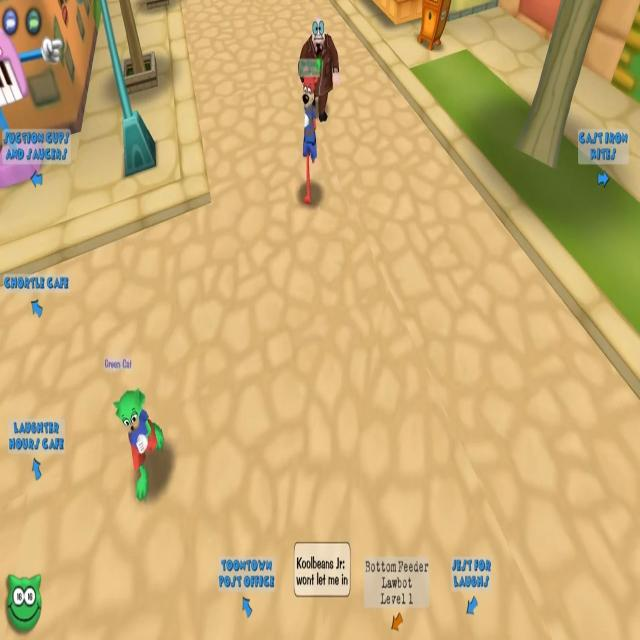flunky: (294, 17, 342, 123)
